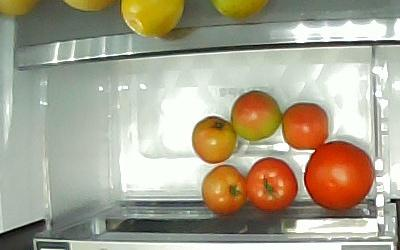tomato: (302, 139, 374, 211), (245, 156, 298, 212), (230, 89, 282, 141), (280, 101, 329, 150), (200, 163, 247, 214), (191, 114, 237, 164)
